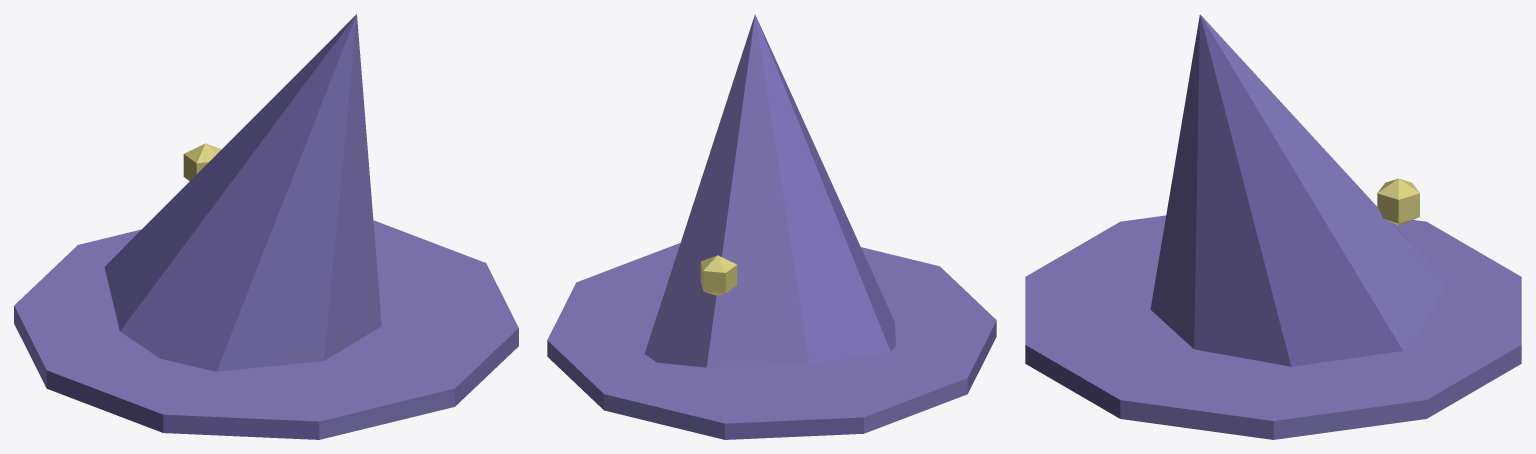
Rendered from hat_wizard.glb.
The picture shows the model from 3 angles, left to right: view 1: azimuth 30°, elevation 25°; view 2: azimuth 150°, elevation 25°; view 3: azimuth 270°, elevation 25°; orthographic projection. The views are drawn at different scales.
Parts seen in each view (by area): view 1: hat_wizard2; view 2: hat_wizard2; view 3: hat_wizard2.
Part boxes in pixels (box(x1,y1,x2,y2)): hat_wizard2: box(14, 14, 518, 439); hat_wizard2: box(547, 14, 996, 439); hat_wizard2: box(1025, 14, 1521, 439).
Size of the model in its own units: 1 by 0.8055 by 0.9511.
